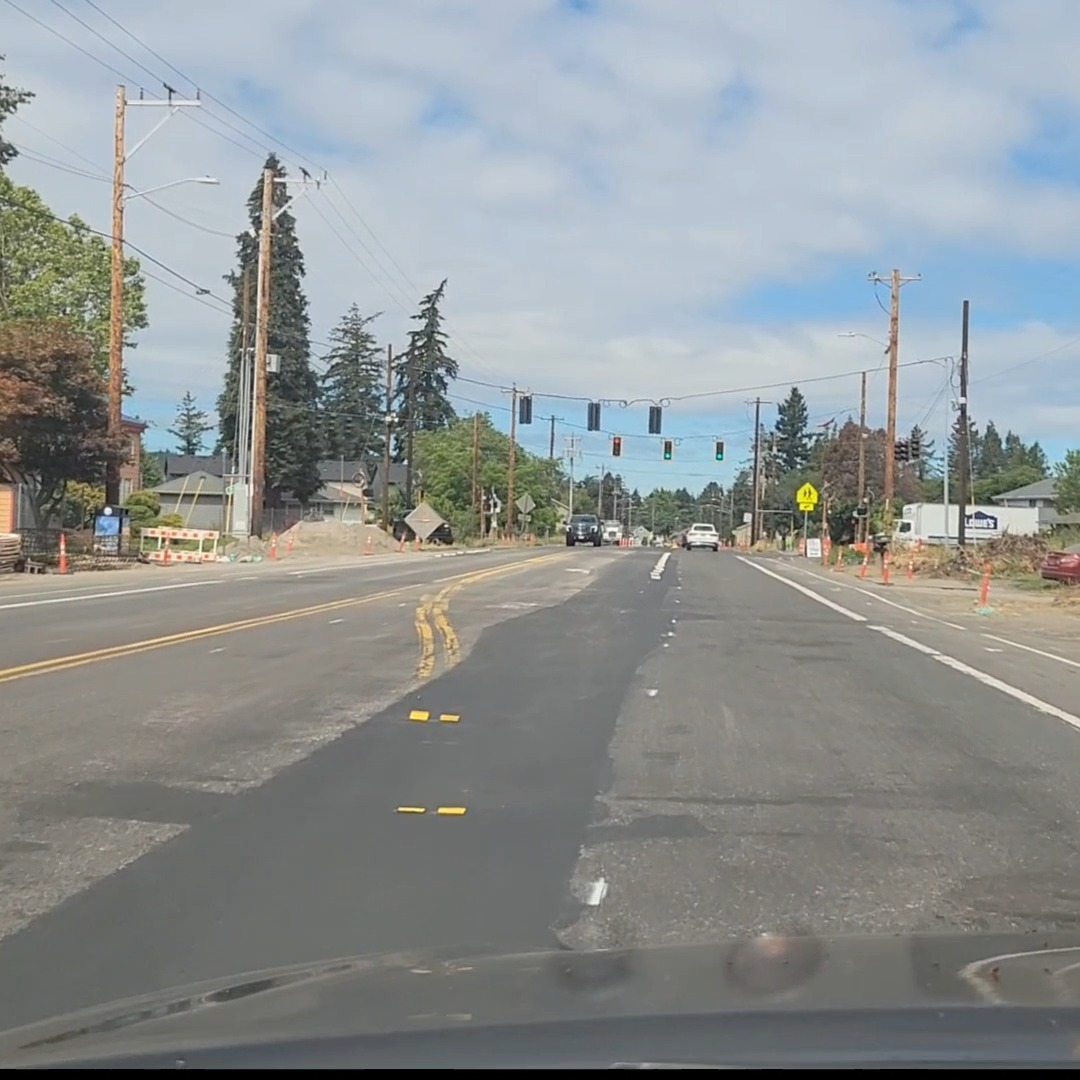car: (391, 514, 449, 544), (565, 513, 602, 545), (681, 523, 720, 551), (599, 520, 623, 545)
crosswalk-sign: (795, 481, 818, 511)
delineator: (972, 568, 995, 615), (57, 533, 68, 573), (879, 548, 891, 584), (858, 546, 869, 578), (268, 532, 278, 559), (906, 548, 915, 578), (834, 543, 844, 569), (162, 541, 172, 565), (363, 533, 373, 555), (396, 533, 406, 552), (286, 530, 294, 552), (414, 534, 422, 550), (503, 531, 511, 544)
